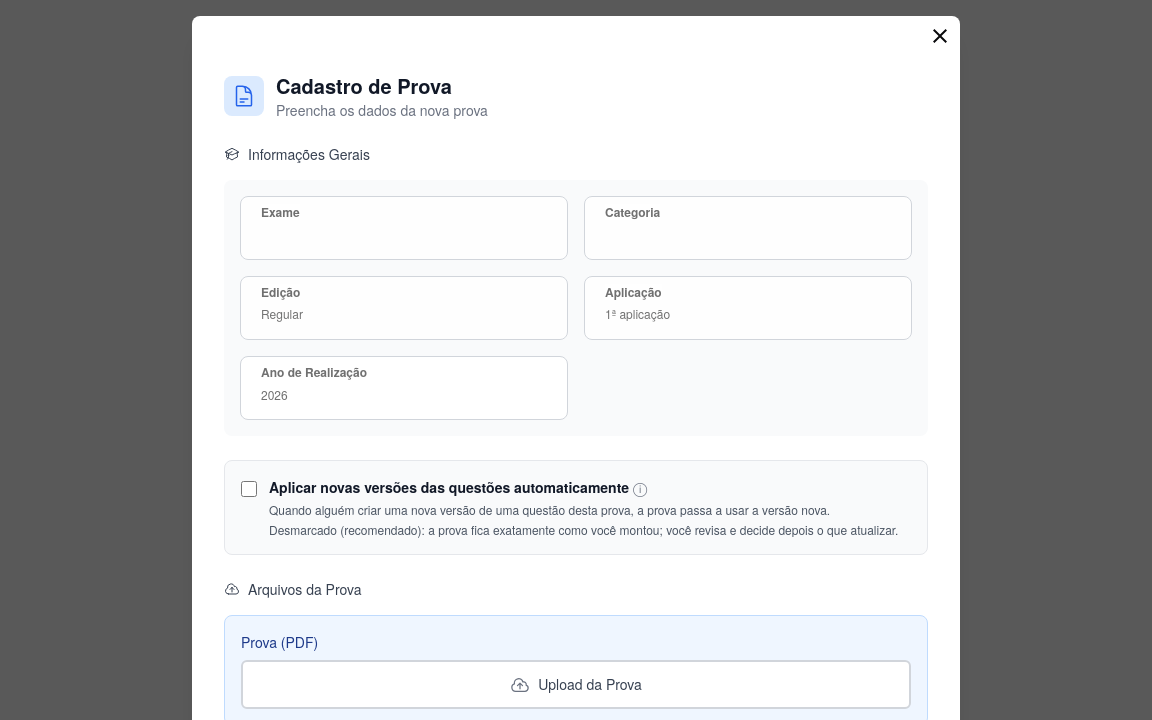
Test: NewProva — Enem Dia 1/2 do cursinho (tickets/038) › explica o que cada dia cria
Select "ENEM" in the dropdown named "exame" next to "Exame" at (404, 228), box [240,196,568,260]
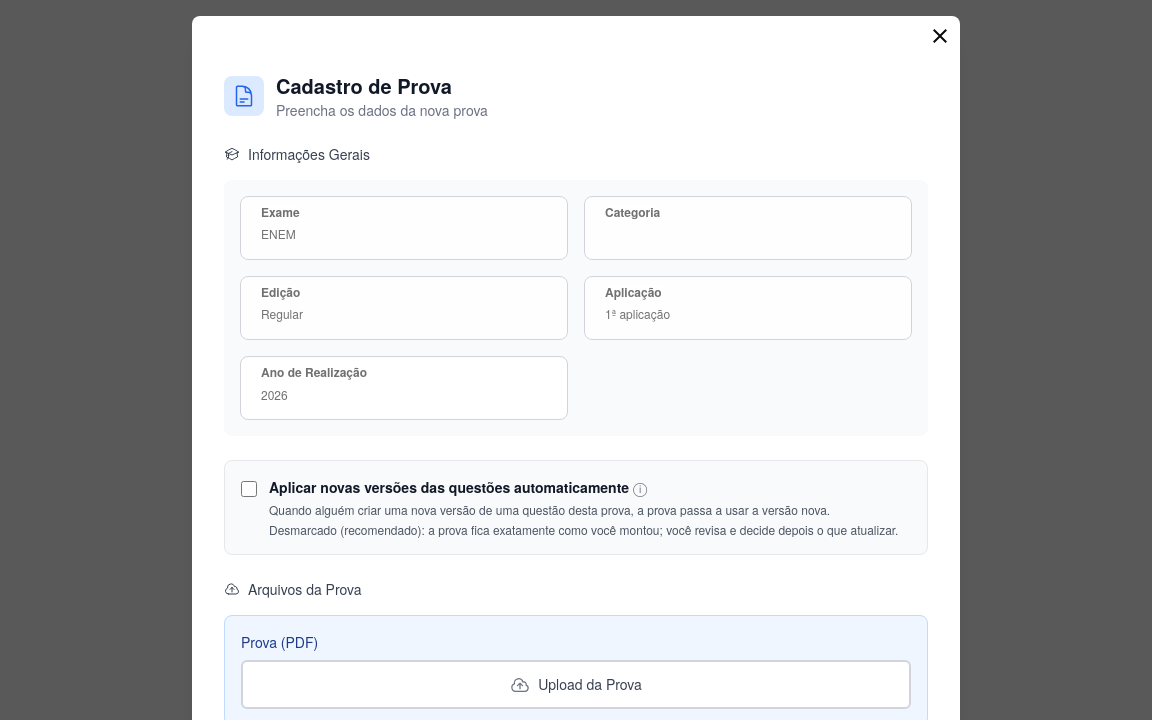
Select "Enem Dia 1" in the dropdown named "categoria" next to "Categoria" at (748, 228), box [584,196,912,260]
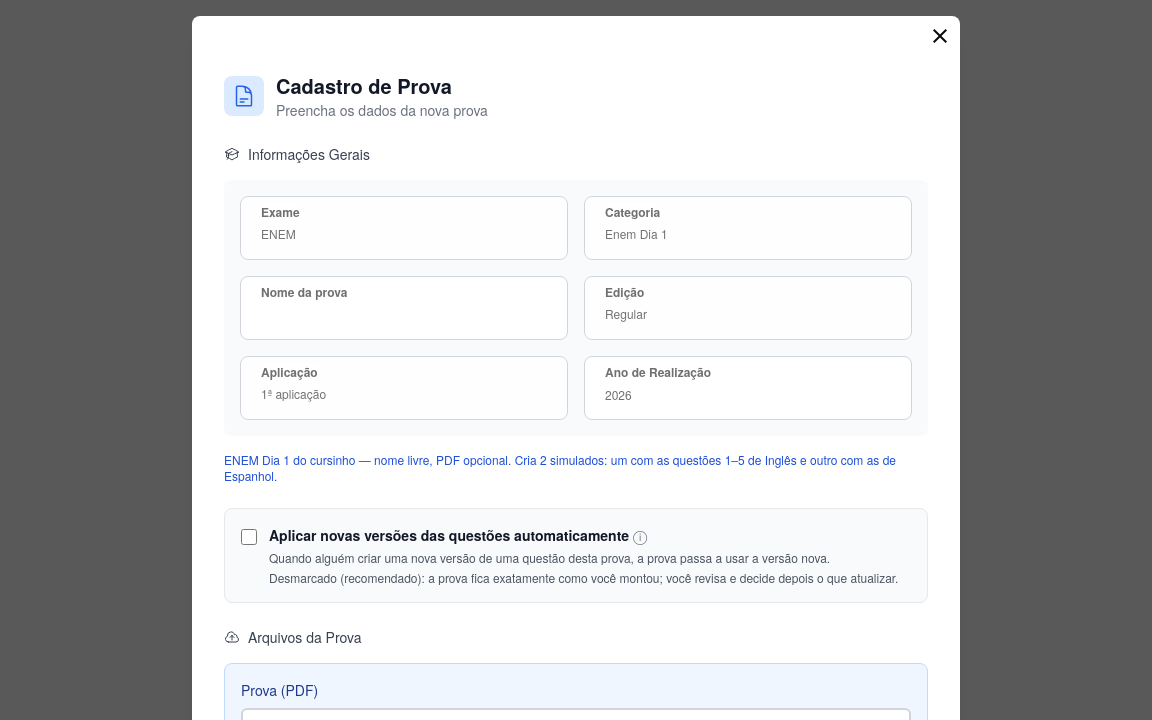
Now the text "ENEM Dia 1 do cursinho — nome livre, PDF opcional. Cria 2 simulados: um com as questões 1–5 de Inglês e outro com as de " is shown, box [224,451,896,484]
